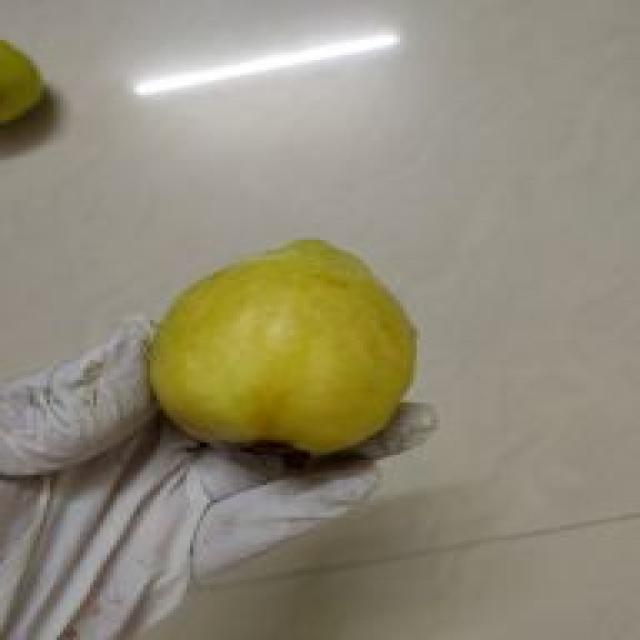Good_Guava: (147, 240, 420, 460)
